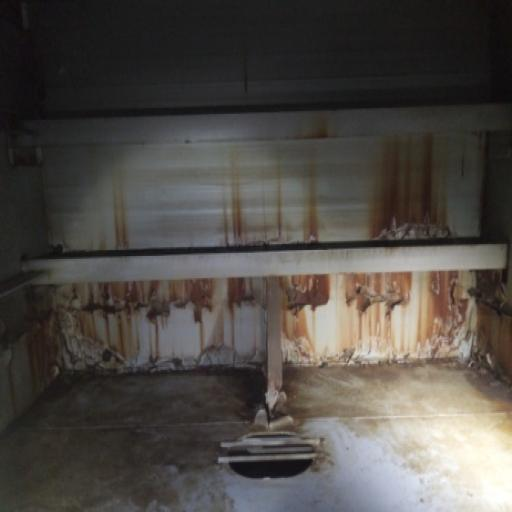Detect-rust-on-metal-surfaces: (0, 268, 511, 511), (367, 139, 462, 247), (220, 151, 249, 253), (106, 173, 137, 255), (297, 159, 323, 250), (297, 113, 337, 146)
